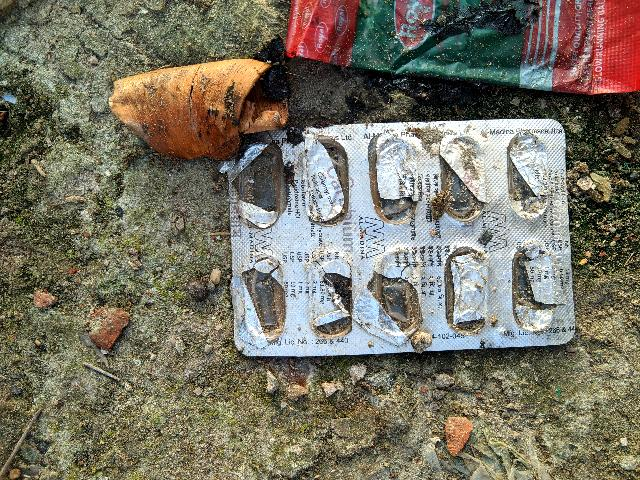medicine: (227, 125, 585, 366)
